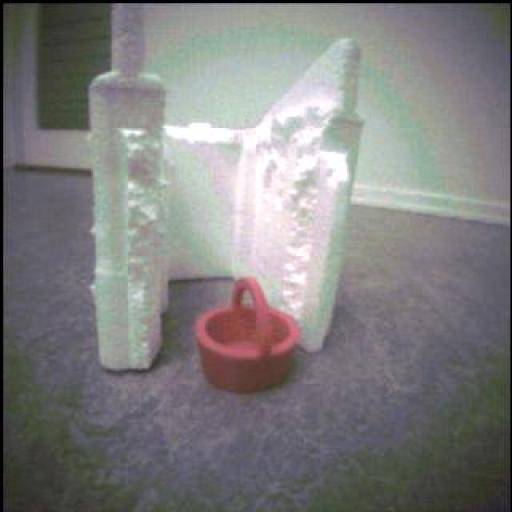Bucket: (196, 278, 302, 393)
